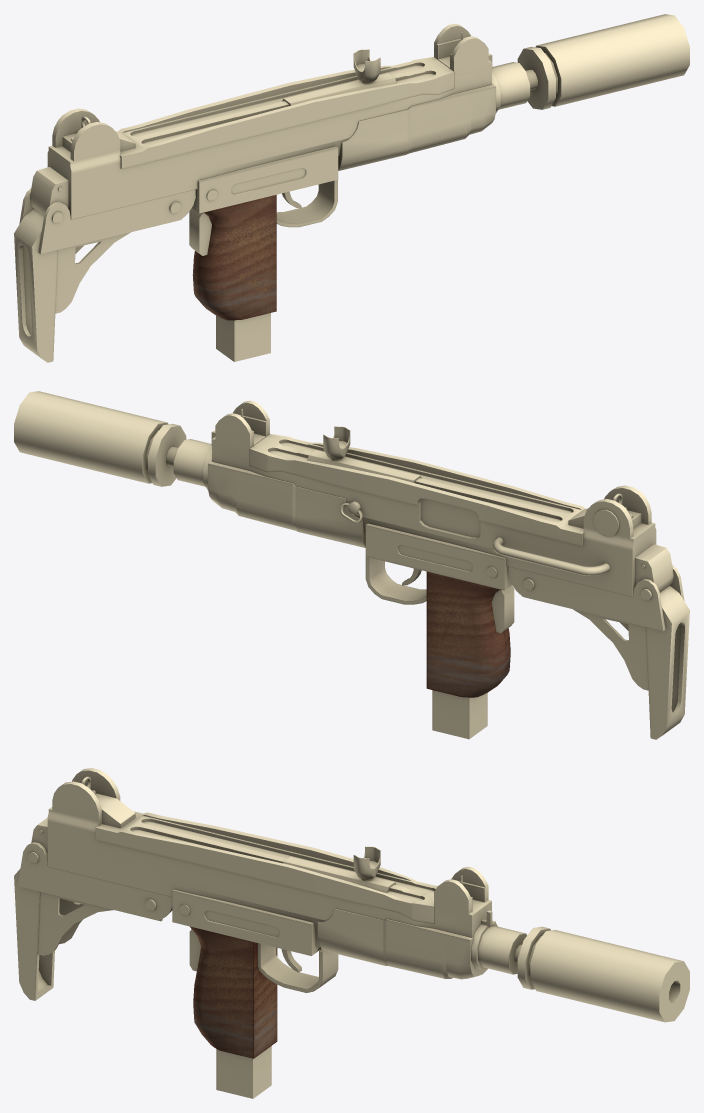
Rendered from weapon_10_5.gltf.
The picture shows the model from 3 angles, top to bottom: view 1: azimuth 30°, elevation 25°; view 2: azimuth 150°, elevation 25°; view 3: azimuth 330°, elevation 25°; orthographic projection.
Visible parts, largest first — view 1: Cube.012_Cube.000_Cube.012_Cube.020; view 2: Cube.012_Cube.000_Cube.012_Cube.020; view 3: Cube.012_Cube.000_Cube.012_Cube.020.
Part boxes in pixels (<box>): Cube.012_Cube.000_Cube.012_Cube.020: <box>14,14,689,362</box>; Cube.012_Cube.000_Cube.012_Cube.020: <box>14,391,689,739</box>; Cube.012_Cube.000_Cube.012_Cube.020: <box>14,768,689,1098</box>.
Size of the model in its own units: 5.17 by 2.06 by 0.5367.
Materials: 1 (1 with a texture image).
